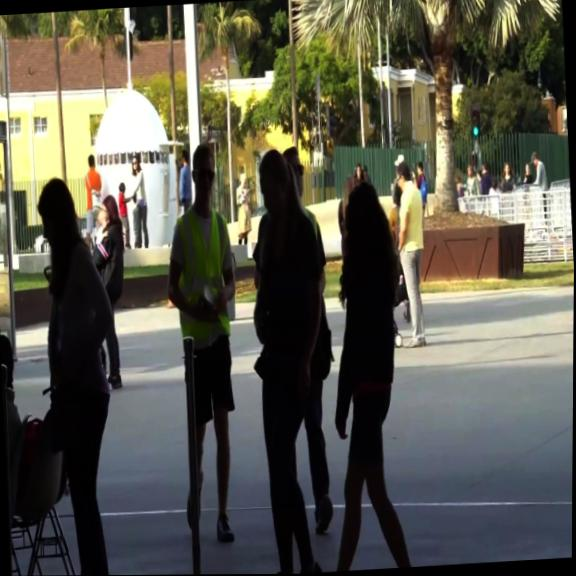safety_vest: (172, 204, 232, 339), (301, 204, 319, 241)
